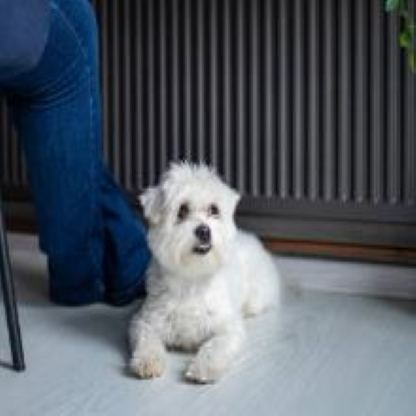maltese: (125, 158, 281, 383)
